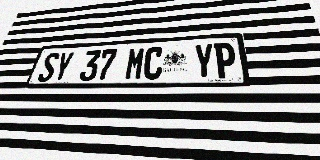3: (78, 50, 102, 81)
7: (95, 49, 118, 81)
C: (143, 46, 164, 80)
M: (124, 47, 146, 80)
P: (214, 42, 238, 78)
S: (36, 52, 61, 82)
Y: (194, 43, 215, 79), (51, 51, 75, 82)
